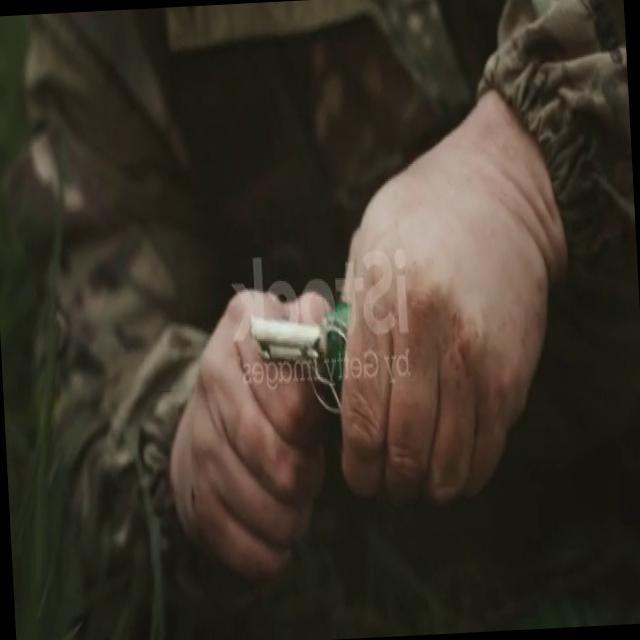grenade: (248, 274, 356, 407)
